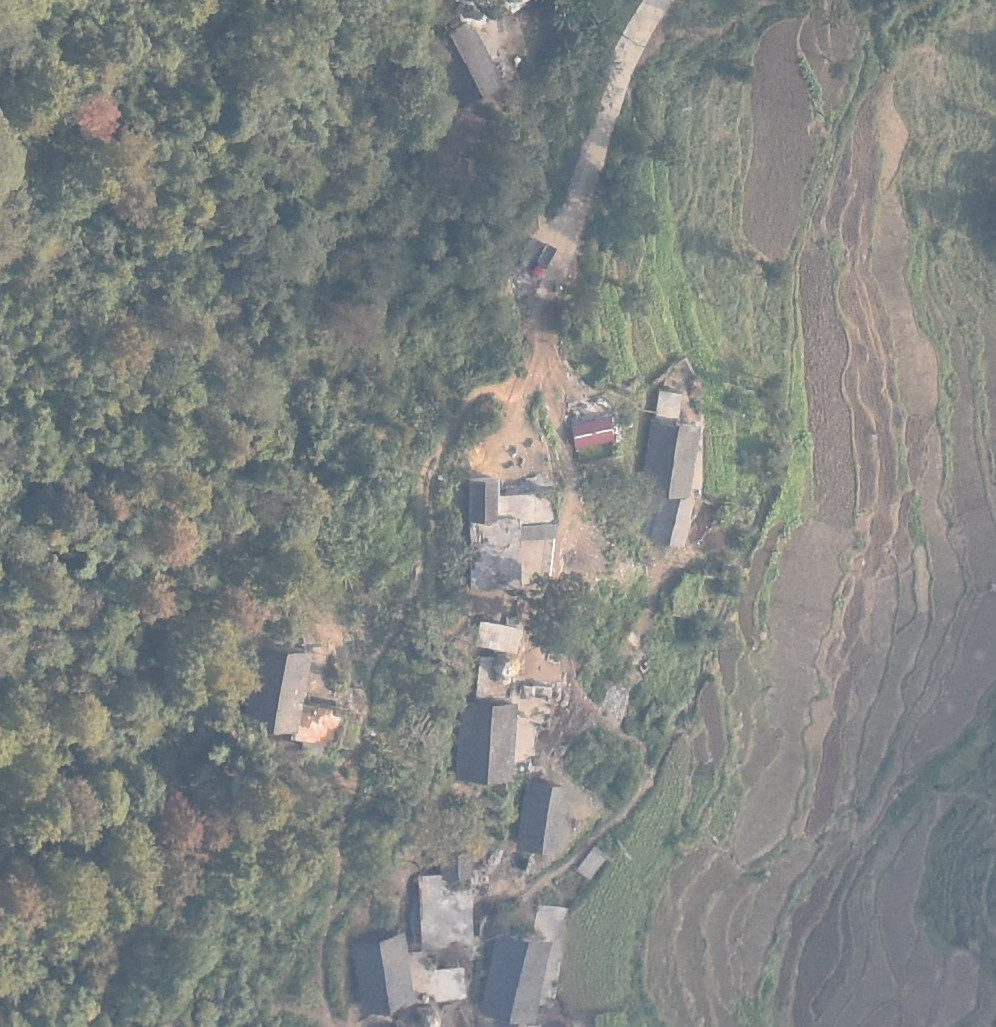building: (463, 478, 560, 590), (481, 936, 551, 1025), (348, 932, 417, 1017), (429, 28, 503, 106), (249, 650, 313, 737), (455, 700, 519, 785), (639, 417, 699, 500), (418, 873, 480, 950), (515, 782, 571, 856), (533, 904, 569, 1004), (652, 494, 698, 550), (417, 968, 464, 1004), (474, 622, 524, 655), (571, 417, 619, 450), (578, 847, 608, 880), (652, 390, 684, 420)
vehicle: (530, 244, 556, 279)
